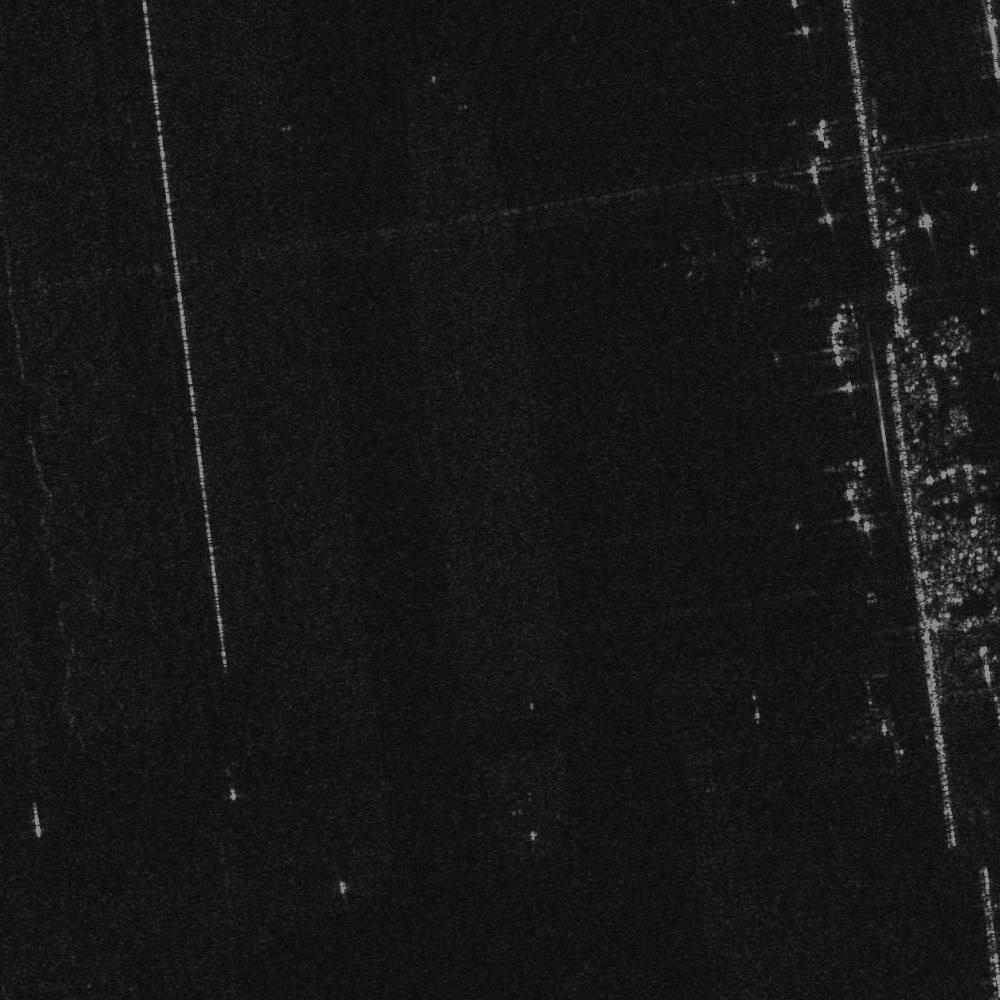Boeing787: (662, 202, 791, 311)
